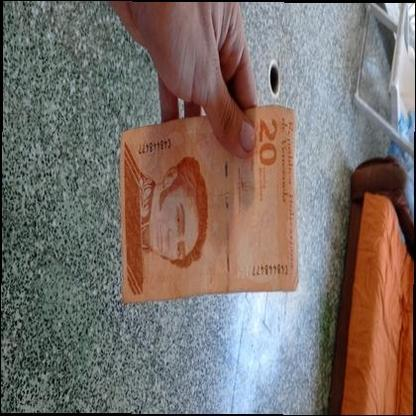twenty-front-vef: (121, 104, 298, 304)
